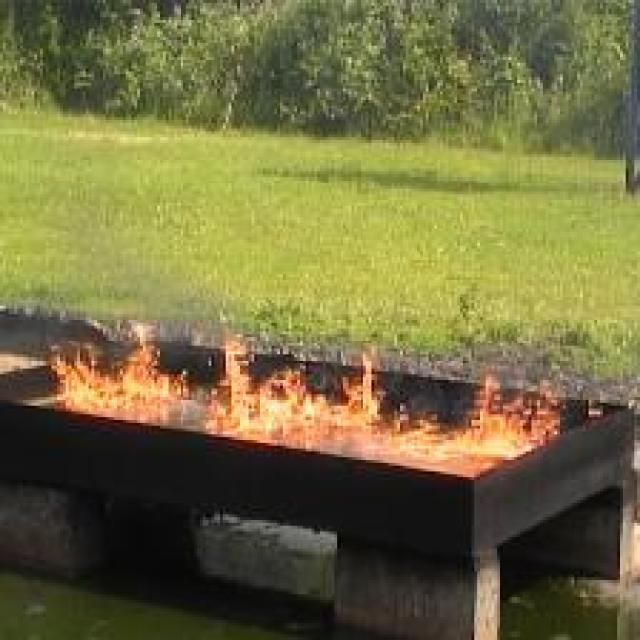Fire: (204, 338, 384, 438), (397, 371, 563, 458), (50, 319, 190, 412)
